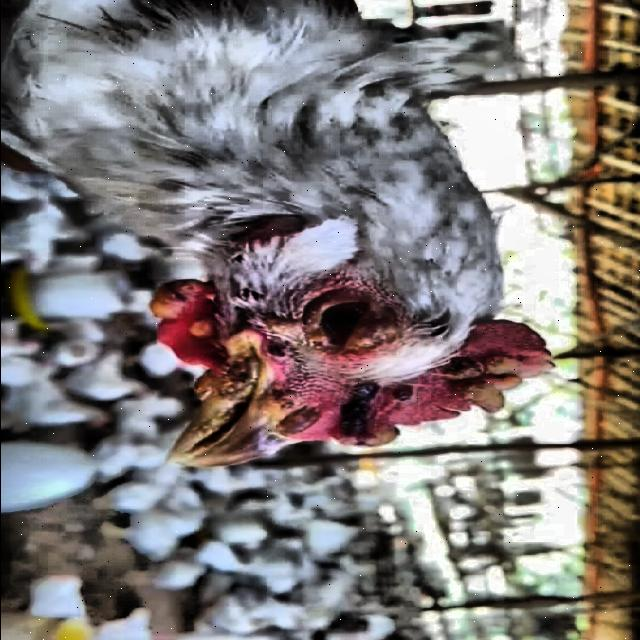Fowlpox: (282, 376, 440, 445)
